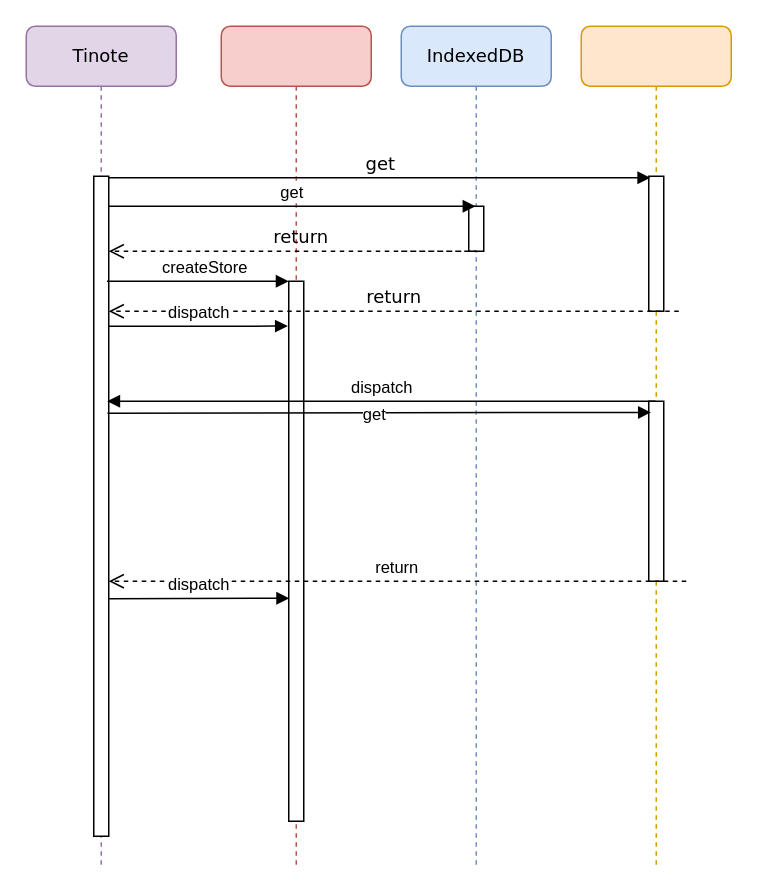
The diagram is 758 pixels wide and 893 high, and some of its shapes have lost their labels. Each missing label, with the box of its shape:
Firebase: (580, 25, 731, 866)
State: (220, 25, 371, 866)
